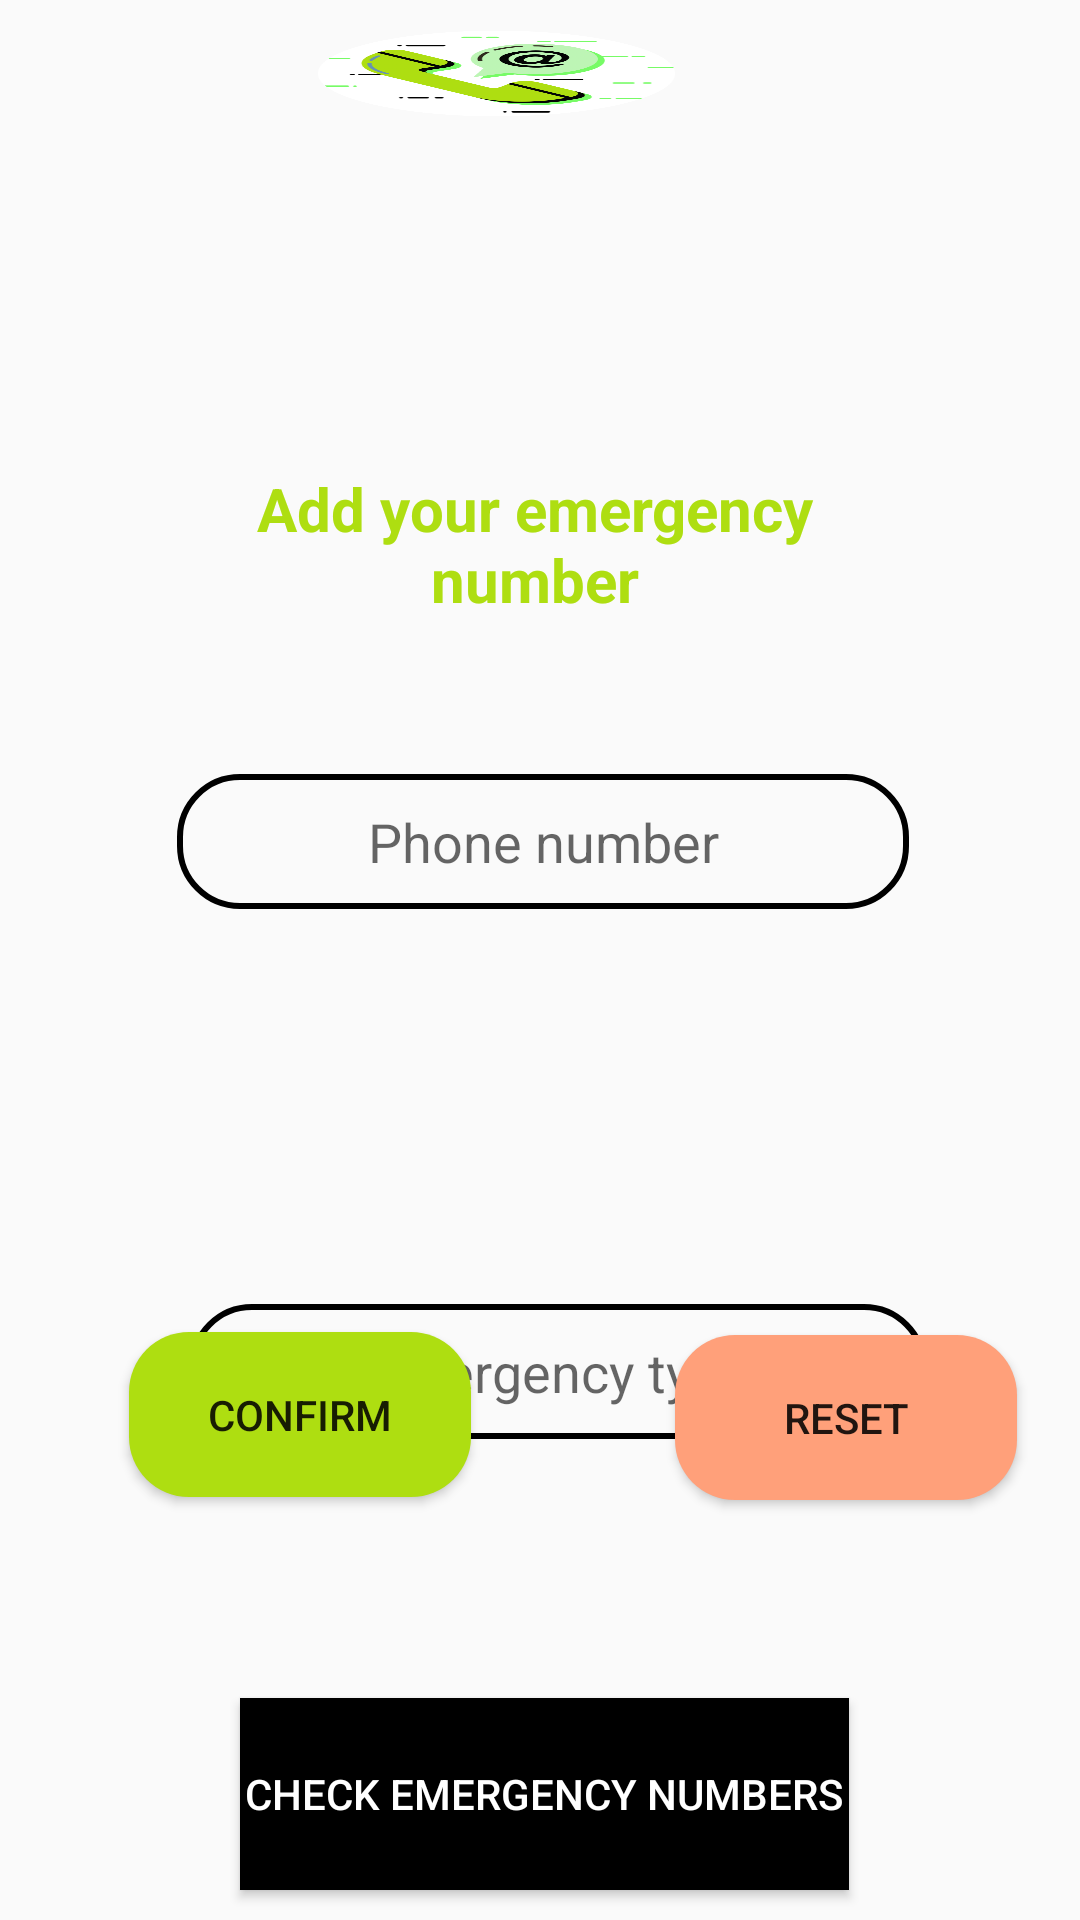

Point at icon controls on the screen. Image size 1080w x 1920h, points as (x=x, y=y).
contact: (x=499, y=75)
